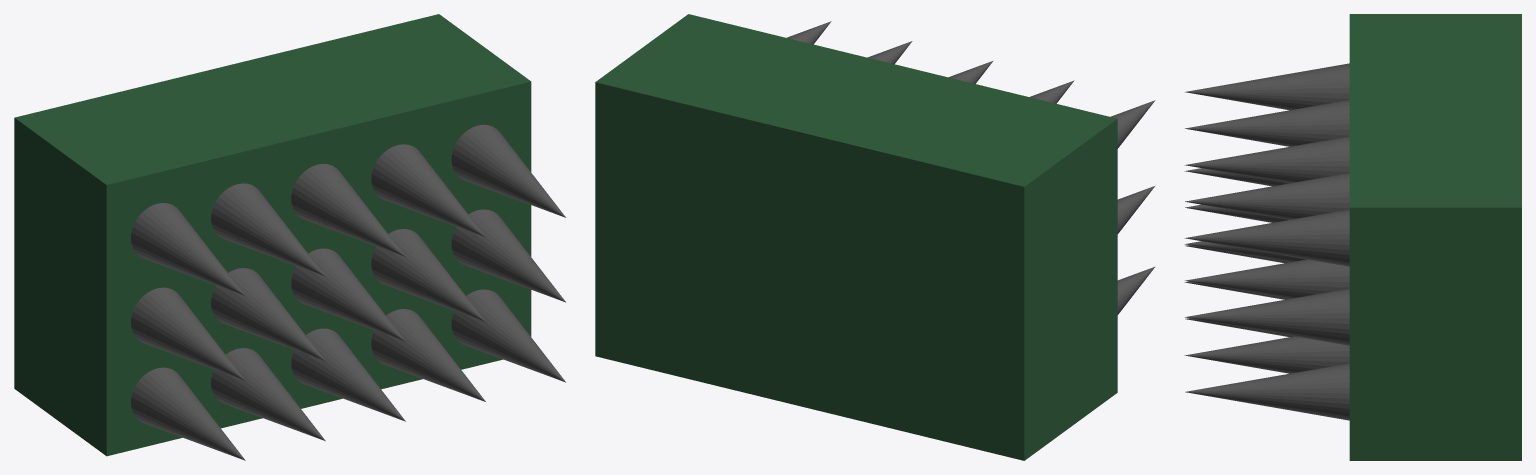
The model's file is obstaclee.fbx.
3 views of the same model, side by side, from view 1: azimuth 30°, elevation 25°; view 2: azimuth 150°, elevation 25°; view 3: azimuth 270°, elevation 25° (orthographic). The views are drawn at different scales.
Parts seen in each view (by area): view 1: Cube.001, Cone.005, Cone.004, Cone.003; view 2: Cube.001, Cone.005, Cone.003, Cone.004; view 3: Cube.001, Cone.005, Cone.004, Cone.003.
Boxes of the visible parts, <box> form: Cube.001: <box>14,14,531,456</box>; Cone.005: <box>131,124,565,295</box>; Cone.004: <box>131,209,565,380</box>; Cone.003: <box>131,289,565,460</box>; Cube.001: <box>595,14,1117,460</box>; Cone.005: <box>786,21,1155,148</box>; Cone.003: <box>1117,267,1154,314</box>; Cone.004: <box>1117,185,1155,233</box>; Cube.001: <box>1349,14,1521,460</box>; Cone.005: <box>1184,63,1349,266</box>; Cone.004: <box>1184,168,1349,345</box>; Cone.003: <box>1184,245,1349,420</box>.
Bounding box in the file's own units: 328 × 200 × 242.
